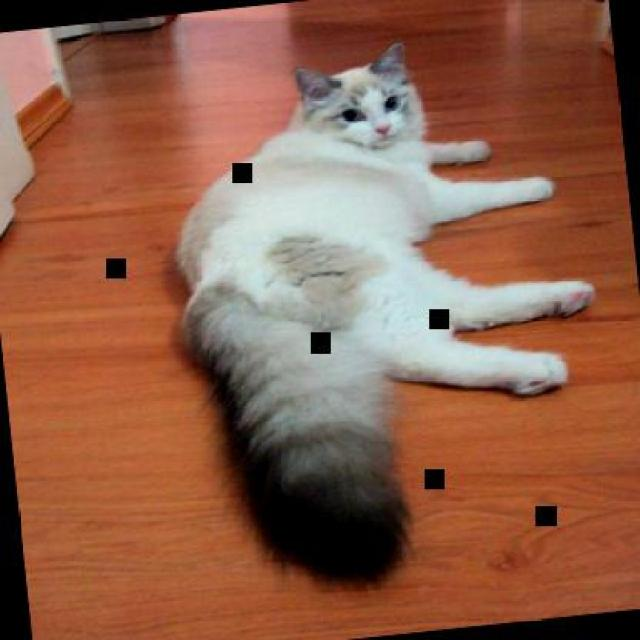cat: (152, 22, 620, 598)
